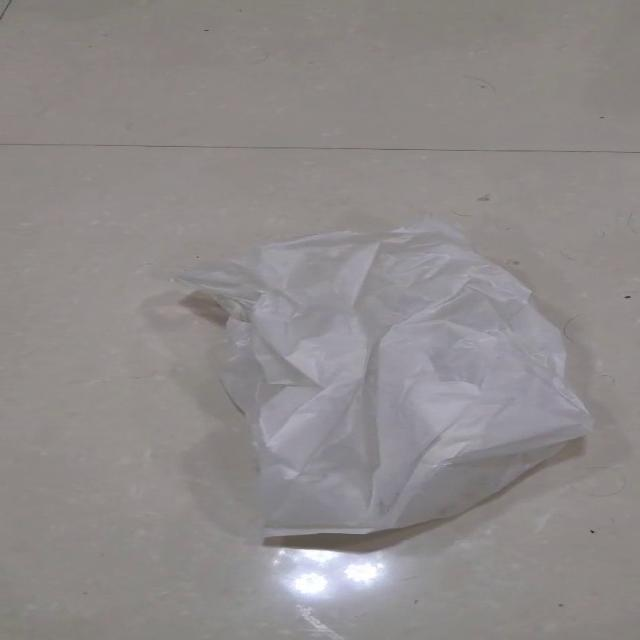plastic: (170, 218, 595, 535)
